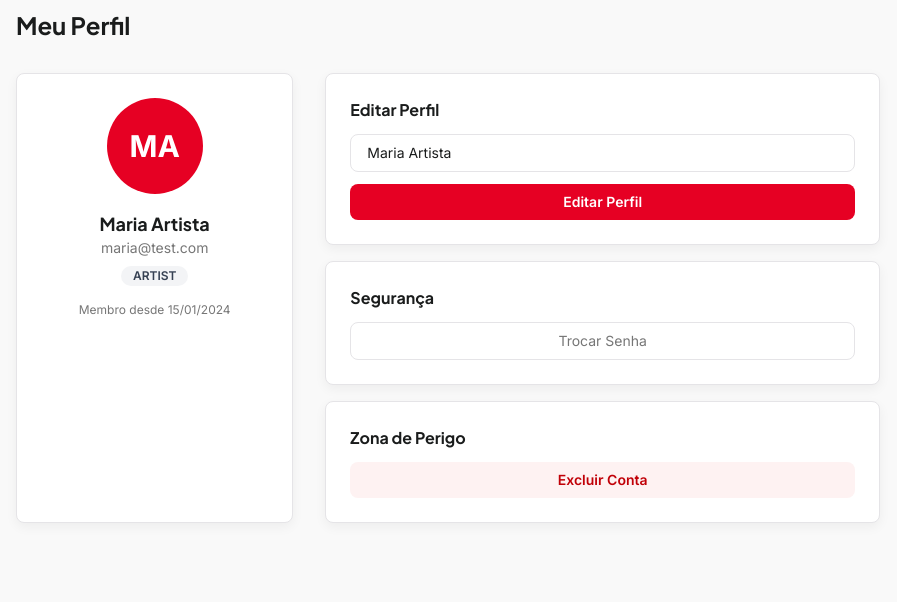
Test case: Perfil › shows error on API failure
Check: the heading "Maria Artista" is shown, box [100,212,210,235]
Step 1. Click the button "Editar Perfil" → click(603, 202), box [350,184,855,220]
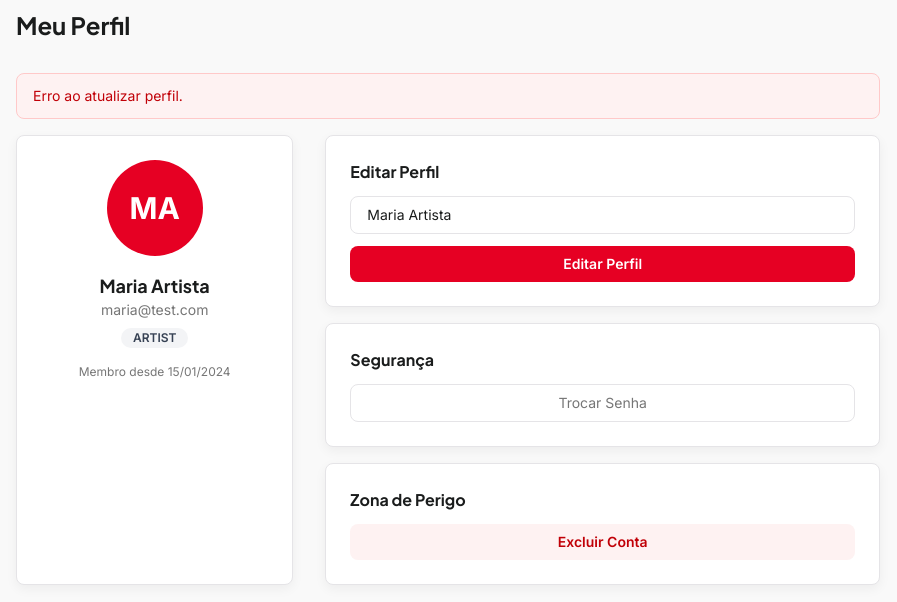
Check: the text "Erro ao atualizar perfil." is shown, box [16,73,880,119]
